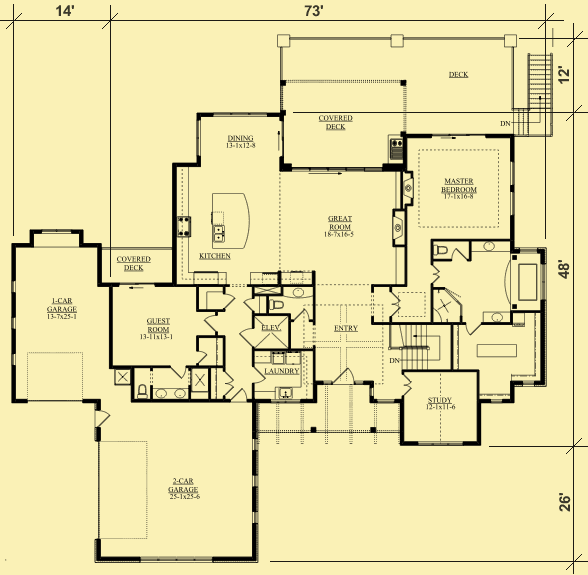door: (329, 369, 359, 388), (290, 308, 315, 327), (388, 289, 403, 319), (220, 292, 240, 314), (202, 312, 222, 332), (250, 364, 268, 386), (222, 367, 234, 398), (239, 327, 255, 350), (240, 296, 259, 314), (193, 349, 209, 366), (168, 367, 187, 381), (403, 373, 412, 398), (431, 264, 441, 283)
kitchen_bar: (210, 192, 249, 250)
large_sink: (130, 383, 153, 402), (265, 298, 287, 313), (429, 243, 448, 260)
small_sink: (468, 241, 511, 255), (153, 389, 190, 403), (281, 284, 314, 299), (480, 309, 511, 323)
stairs: (511, 54, 556, 140), (388, 322, 453, 369)
tub: (512, 252, 540, 310)
window: (210, 111, 273, 119)
